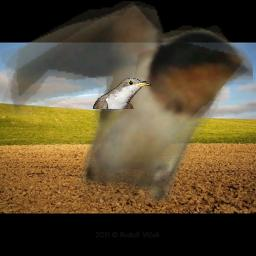Cuckoo: (93, 78, 151, 109)
Swallow: (2, 1, 253, 203)
